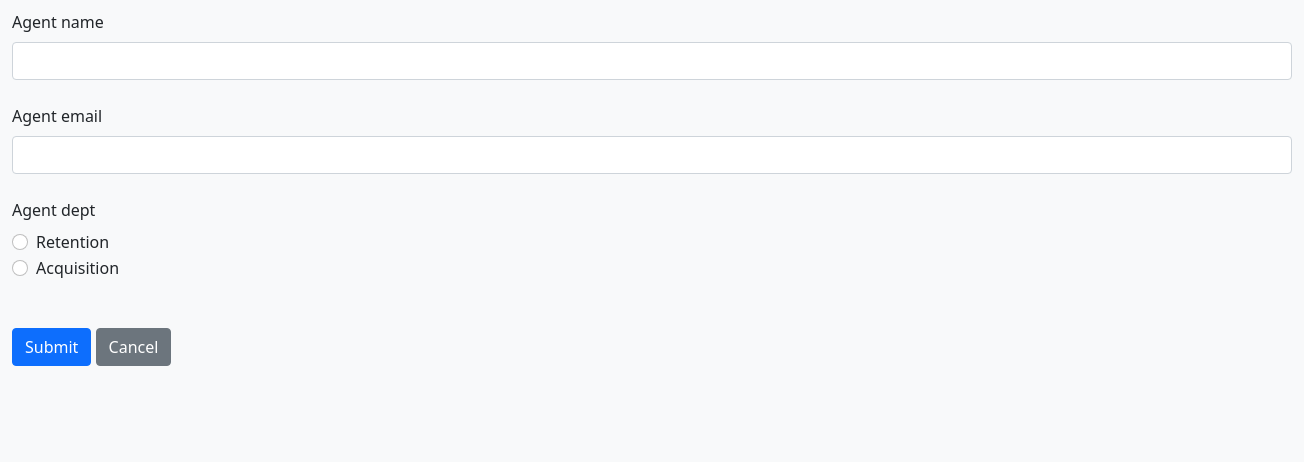
Test: shows errors if submitting incomplete form
expect the text "Agent Name required" is not shown: met
expect the text "Agent Email required" is not shown: met
Click the button "Submit".
click(52, 347)  # box [12, 328, 91, 366]
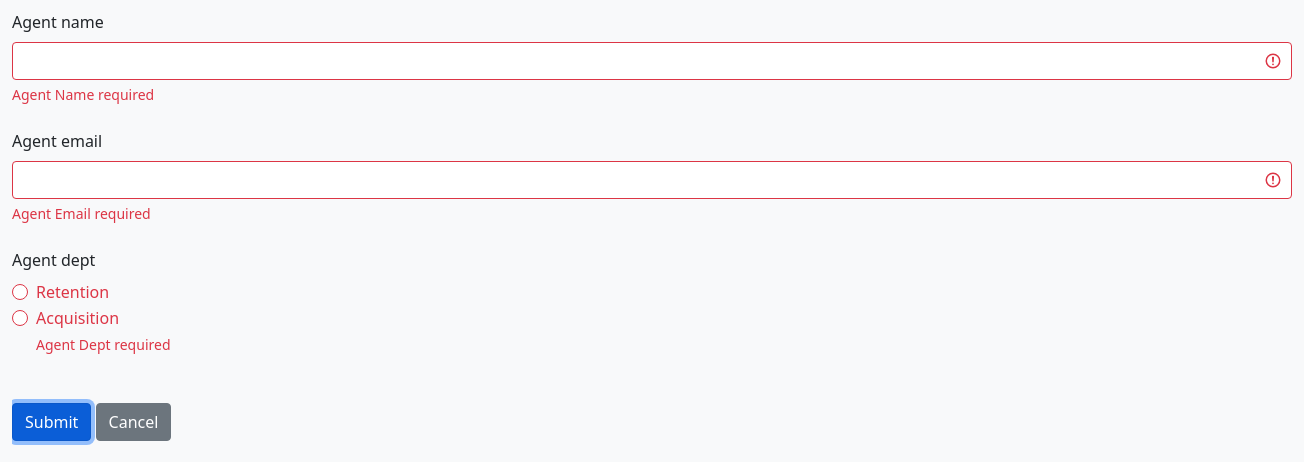
expect the text "Agent Name required" is shown: met, box [12, 85, 154, 104]
expect the text "Agent Email required" is shown: met, box [12, 204, 151, 223]
expect the text "Agent Dept required" is shown: met, box [36, 335, 170, 354]
